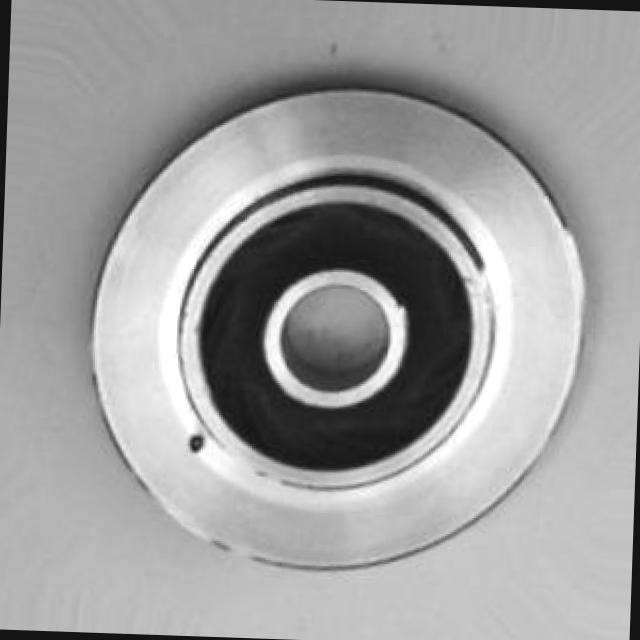Defect: (186, 428, 211, 459)
